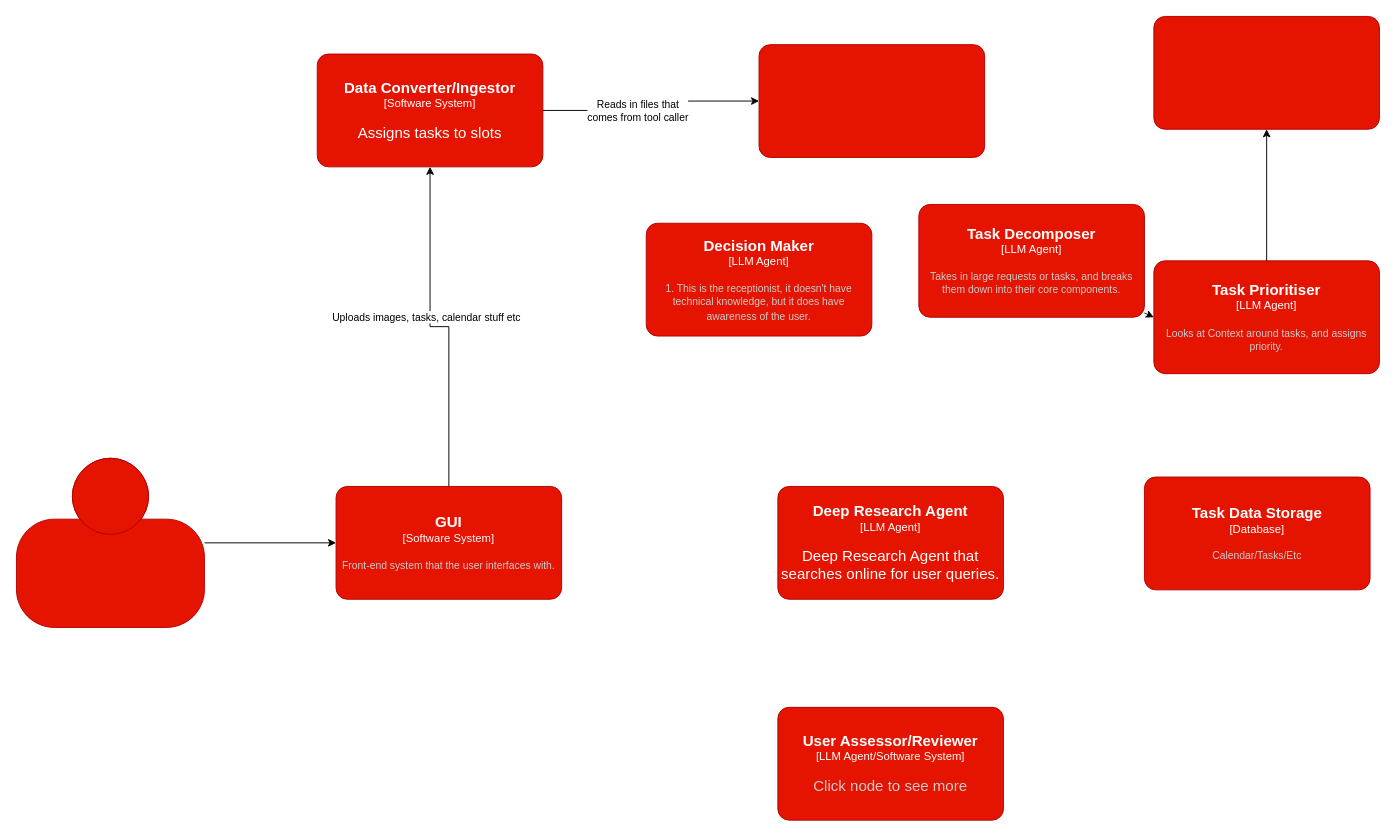
Image size: 1396x837. Some labels were removed from this diagram. The box of each missing label's shape, as (x1, y1, x2, y2) in pixels:
End User [Person] User of the application: (16, 457, 204, 627)
External Tool Caller [Software System] Assigns tasks to slots: (758, 44, 985, 157)
Task Allocator [LLM Agent/Software System] Assigns tasks to slots: (1153, 16, 1379, 129)
